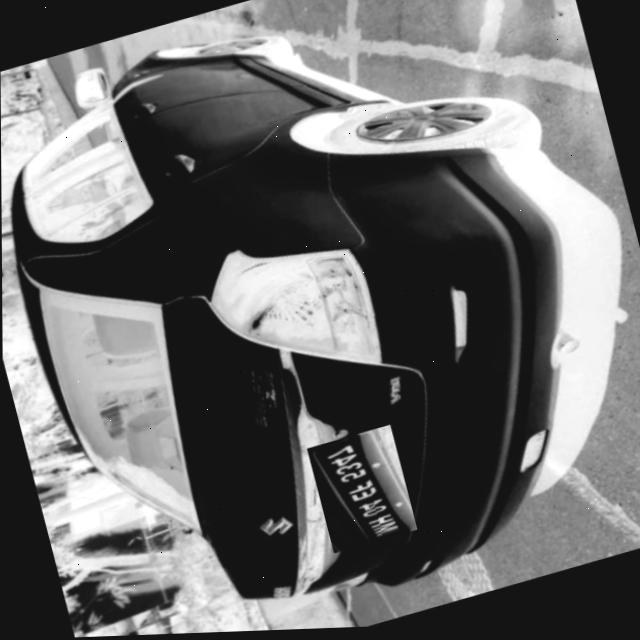Non_registered: (306, 425, 416, 555)
